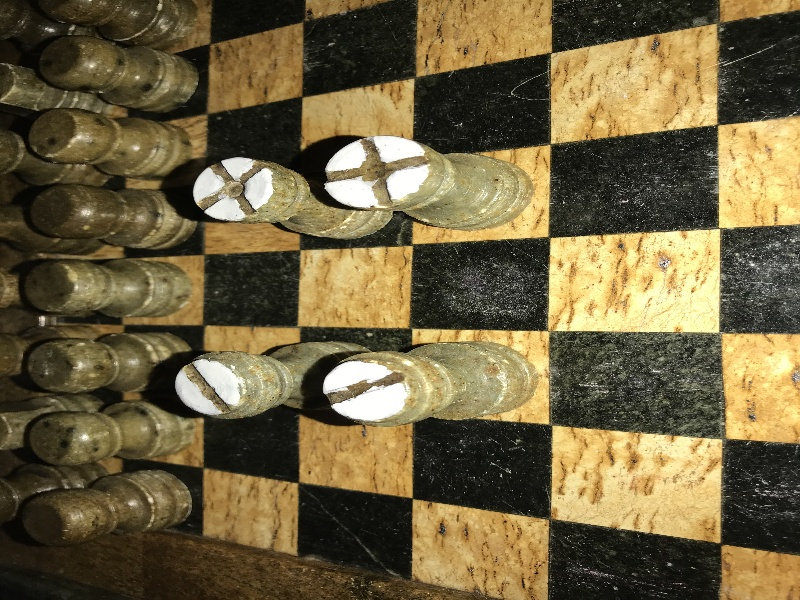WhiteBishop: (324, 135, 526, 230), (193, 157, 393, 241)
WhiteRook: (322, 342, 538, 426), (176, 342, 370, 420)
